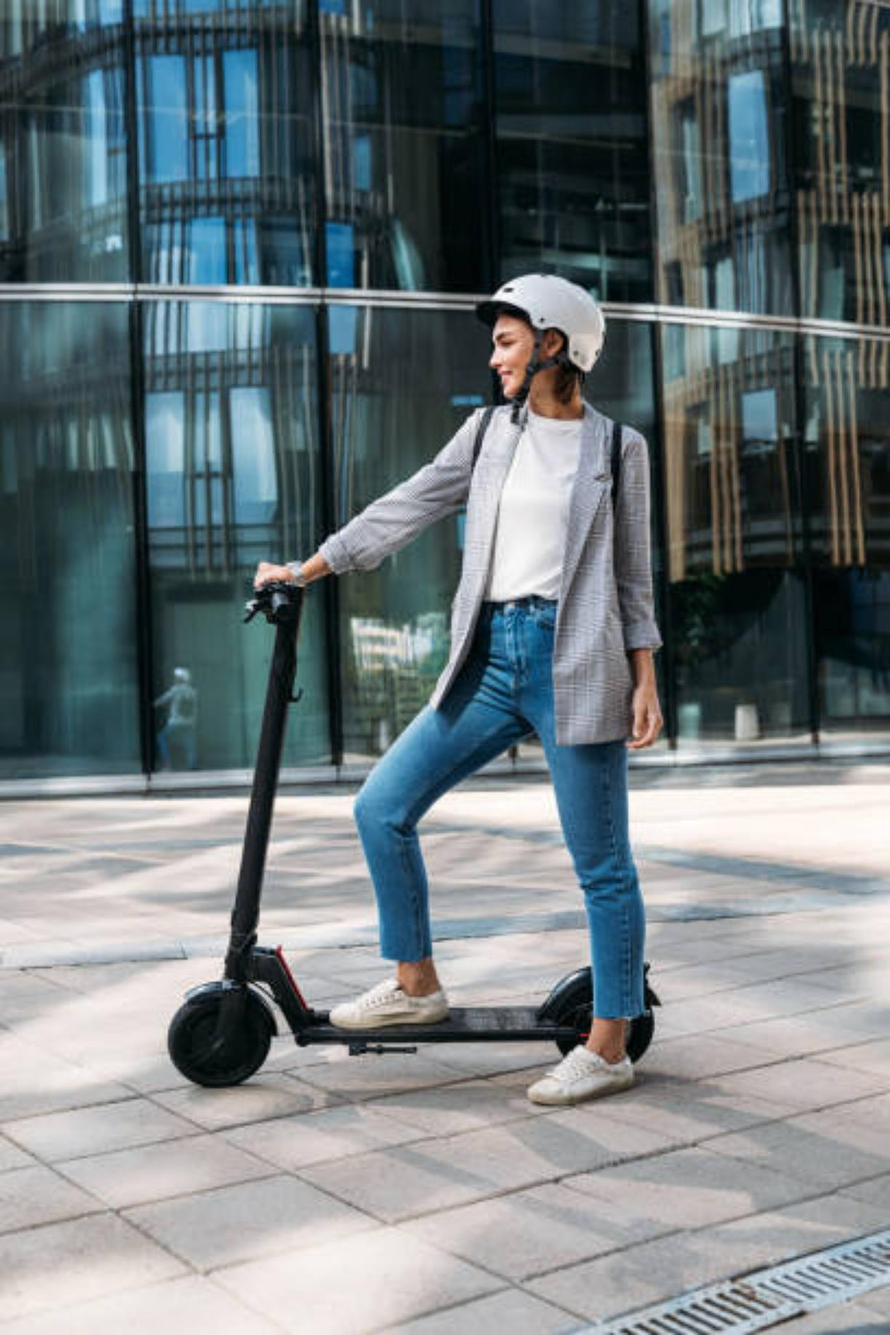helmet: (468, 270, 607, 415)
human: (261, 272, 669, 1115)
kickboard: (146, 975, 667, 1101)
